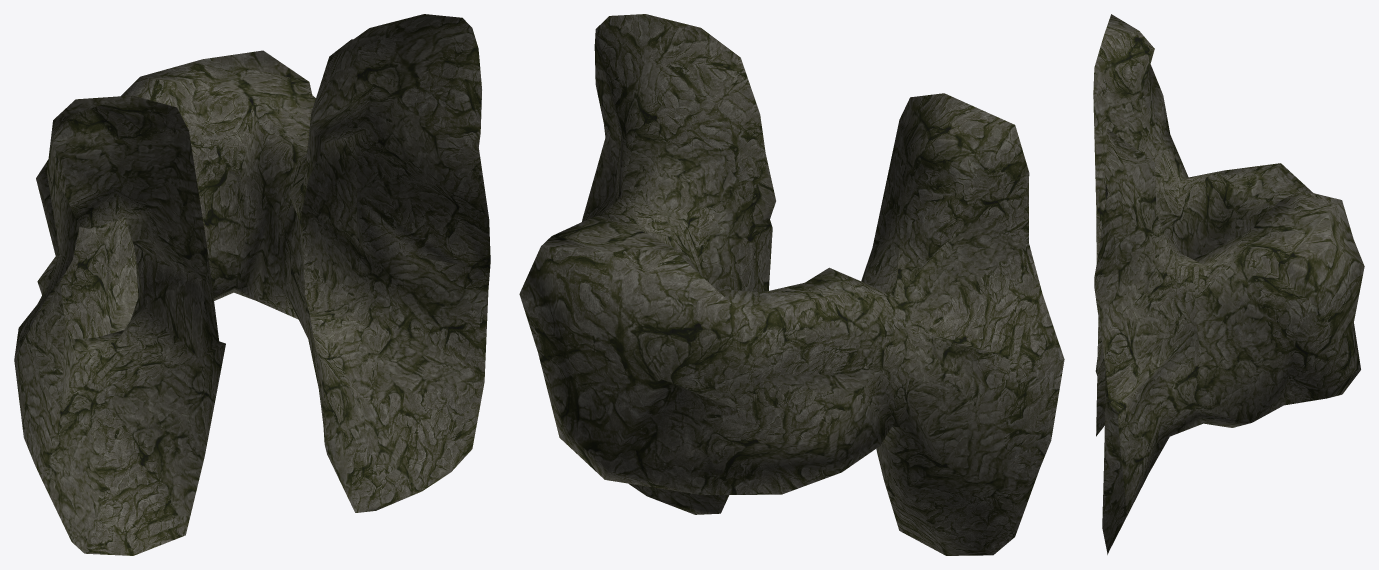
File: TI_Cliff_01_d_LOD_03.fbx
3 views of the same model, side by side, from view 1: azimuth 30°, elevation 25°; view 2: azimuth 150°, elevation 25°; view 3: azimuth 270°, elevation 25° (orthographic). The views are drawn at different scales.
Parts seen in each view (by area): view 1: TI_Cliff_01_d_LOD_03; view 2: TI_Cliff_01_d_LOD_03; view 3: TI_Cliff_01_d_LOD_03.
Part boxes in pixels (bbox=[...]): TI_Cliff_01_d_LOD_03: bbox=[14, 14, 490, 555]; TI_Cliff_01_d_LOD_03: bbox=[519, 14, 1064, 555]; TI_Cliff_01_d_LOD_03: bbox=[1093, 14, 1364, 554].
Bounding box in the file's own units: 36.32 × 34.67 × 20.76.
